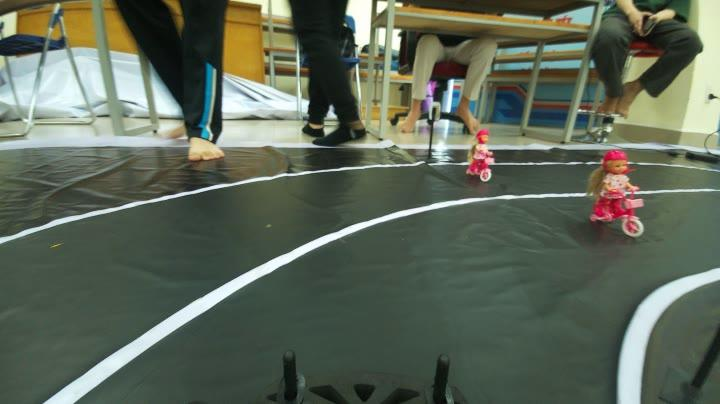pedestrian: (582, 144, 641, 230), (465, 132, 494, 184)
